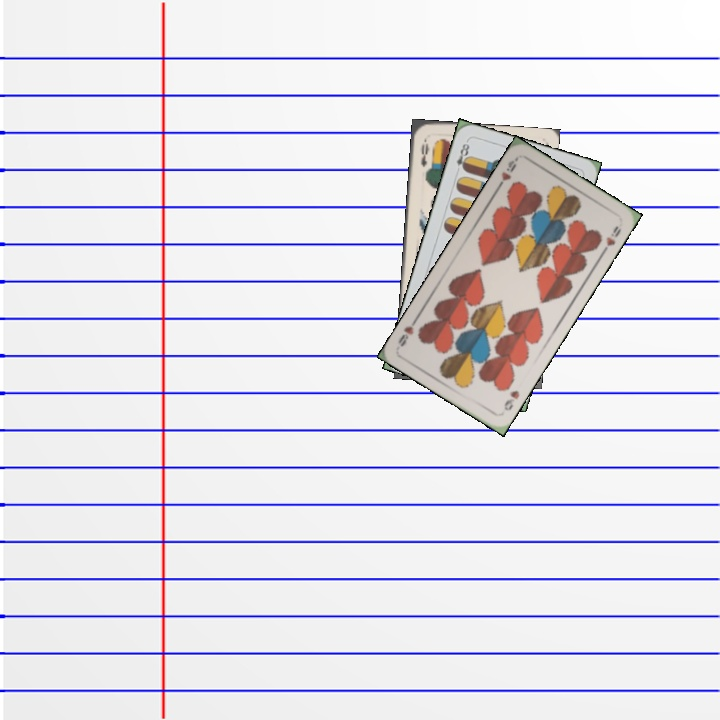E8: (452, 137, 472, 176)
EO: (417, 134, 431, 169)
H9: (493, 154, 520, 191), (500, 386, 523, 413)
